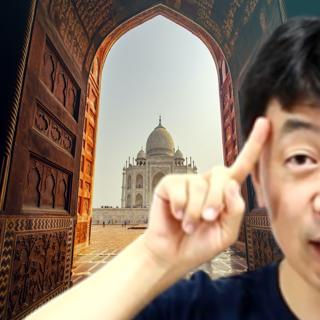IRRITATED: (145, 112, 274, 278)
